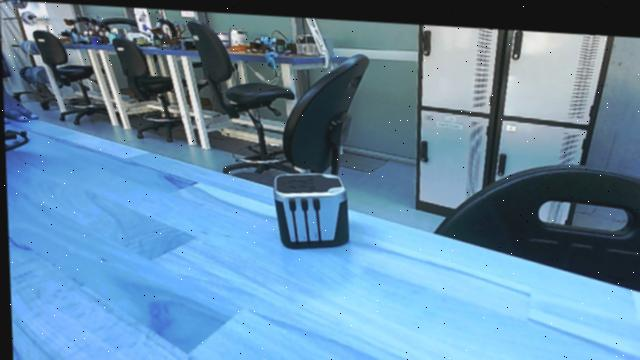adapter: (267, 163, 352, 247)
